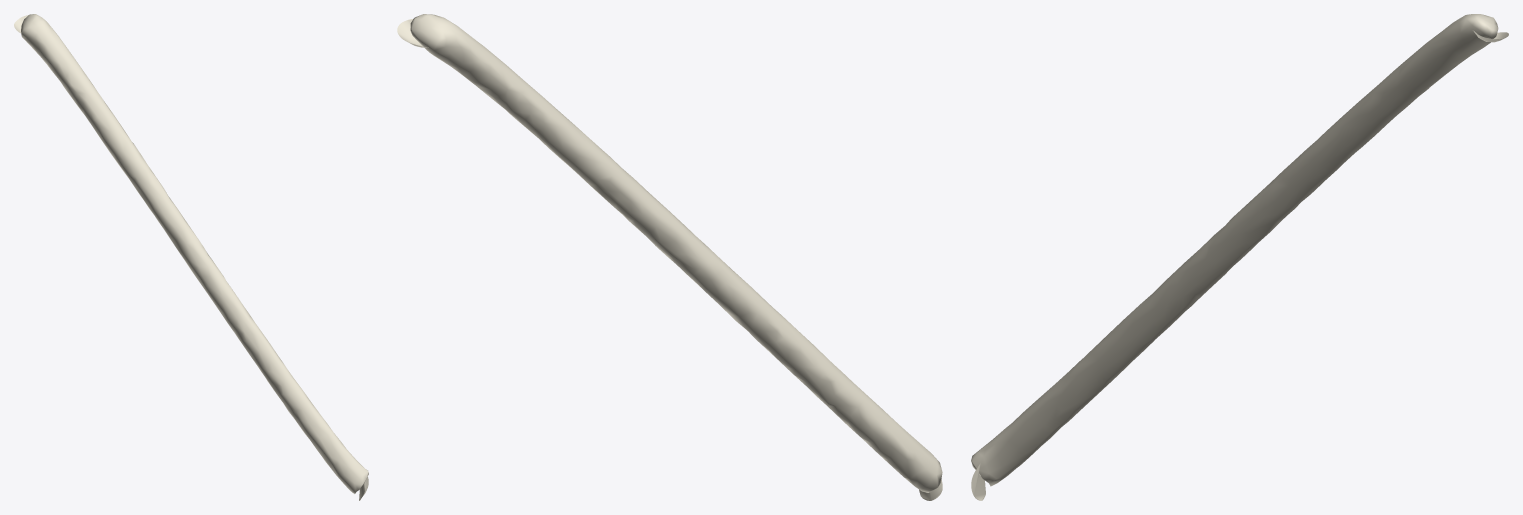
The model's file is fma72311_mm1129.glb.
The picture shows the model from 3 angles, left to right: view 1: azimuth 90°, elevation 25°; view 2: azimuth 150°, elevation 25°; view 3: azimuth 270°, elevation 25°; orthographic projection. The views are drawn at different scales.
Parts seen in each view (by area): view 1: FMA72311_MM1129; view 2: FMA72311_MM1129; view 3: FMA72311_MM1129.
Boxes of the visible parts, x1,y1,x2,y2 form: FMA72311_MM1129: [14, 14, 368, 500]; FMA72311_MM1129: [397, 14, 942, 500]; FMA72311_MM1129: [971, 14, 1508, 500].
Bounding box in the file's own units: 0.0233 × 0.0456 × 0.0366.
